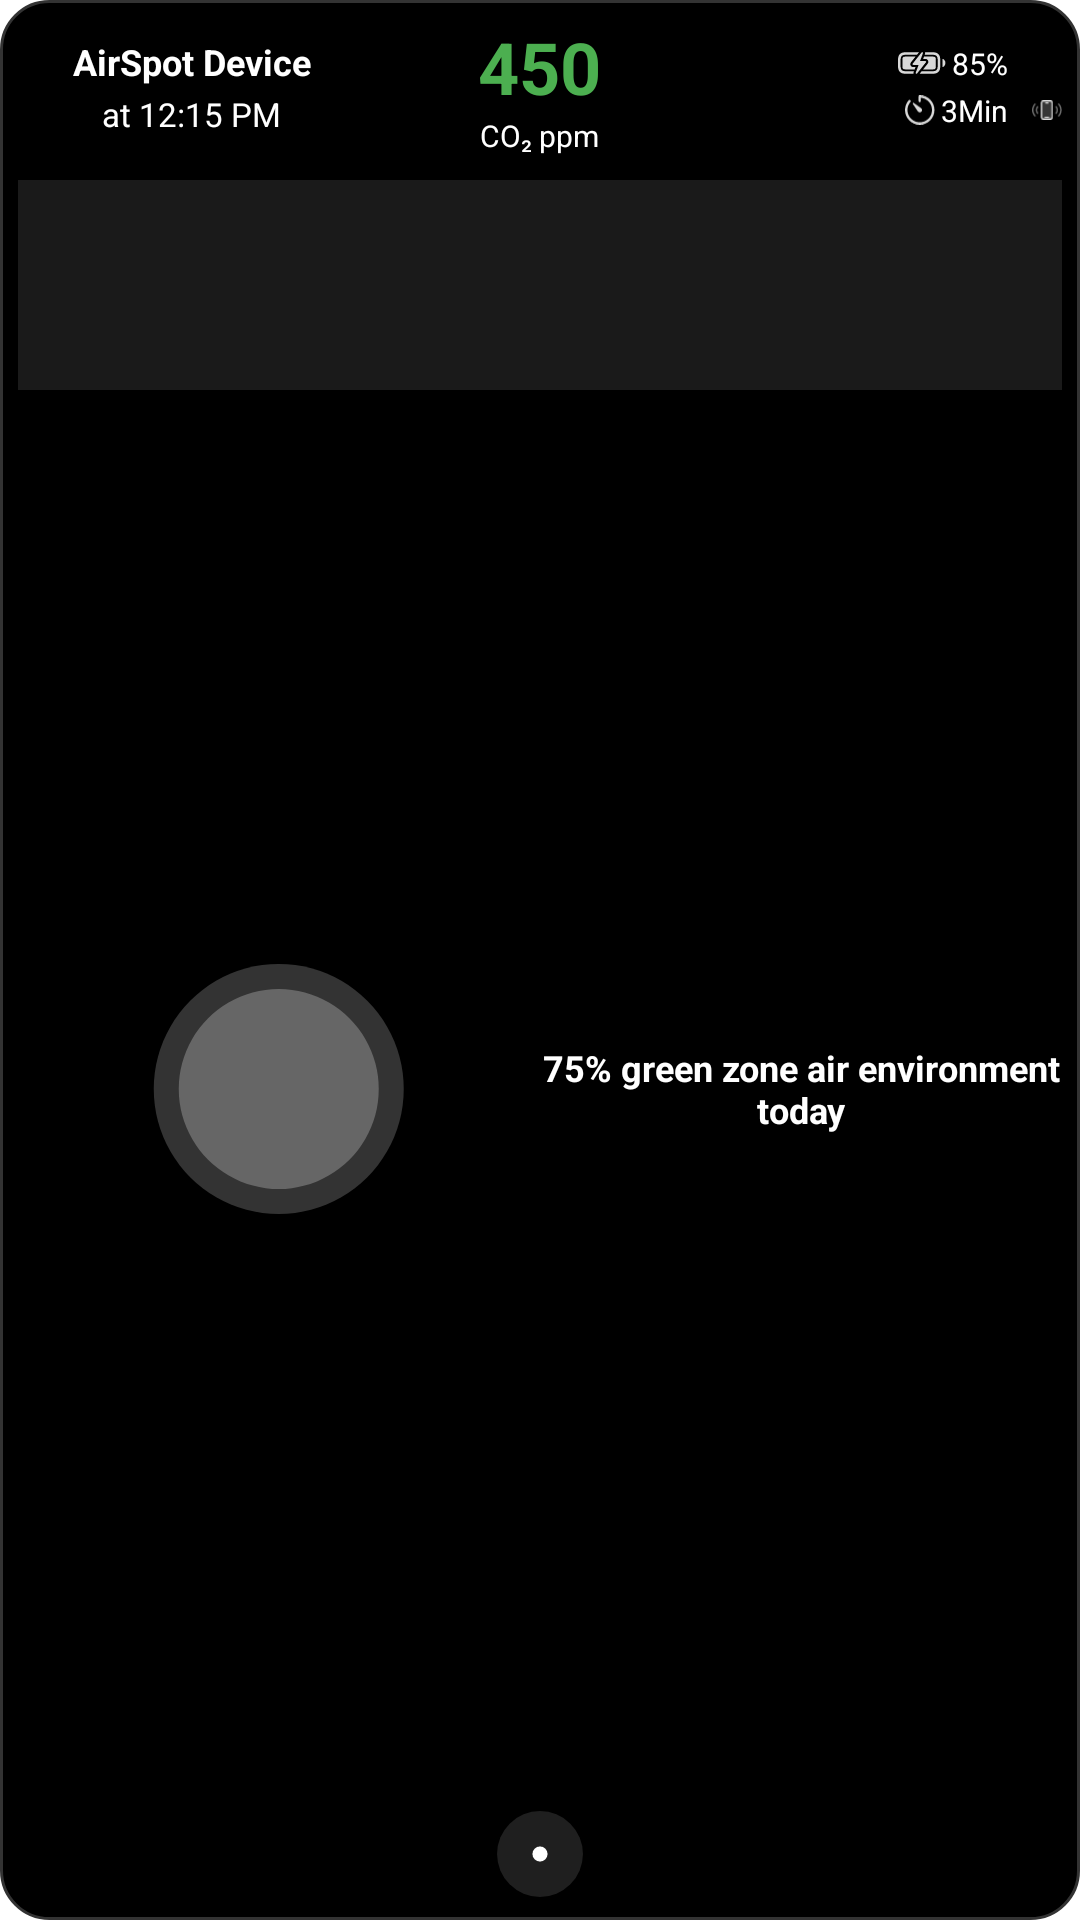

Icons on this 1080px×1920px Android screen, each with its box as (x1, y1, x2, y2):
battery 100percent bolt: (898, 52, 946, 74)
iphone radiowaves: (1032, 100, 1062, 120)
timer: (905, 95, 935, 125)
